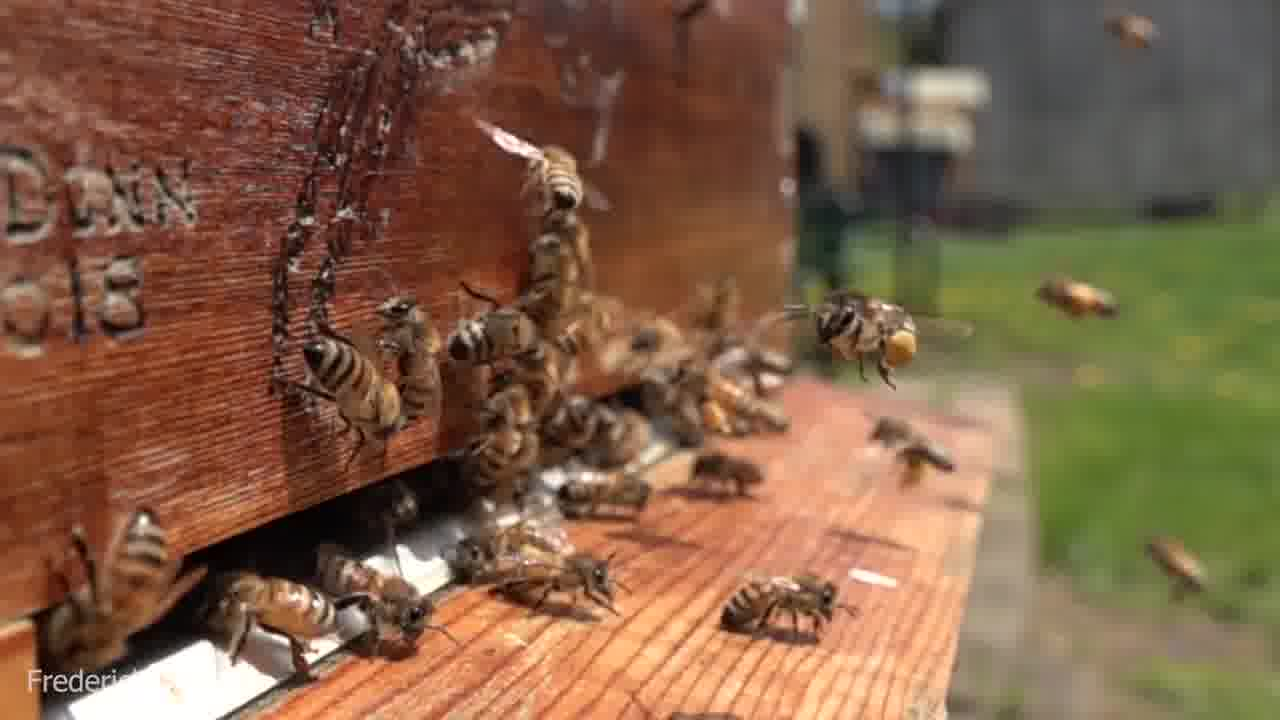pollen: (800, 293, 937, 387), (1031, 271, 1112, 319)
